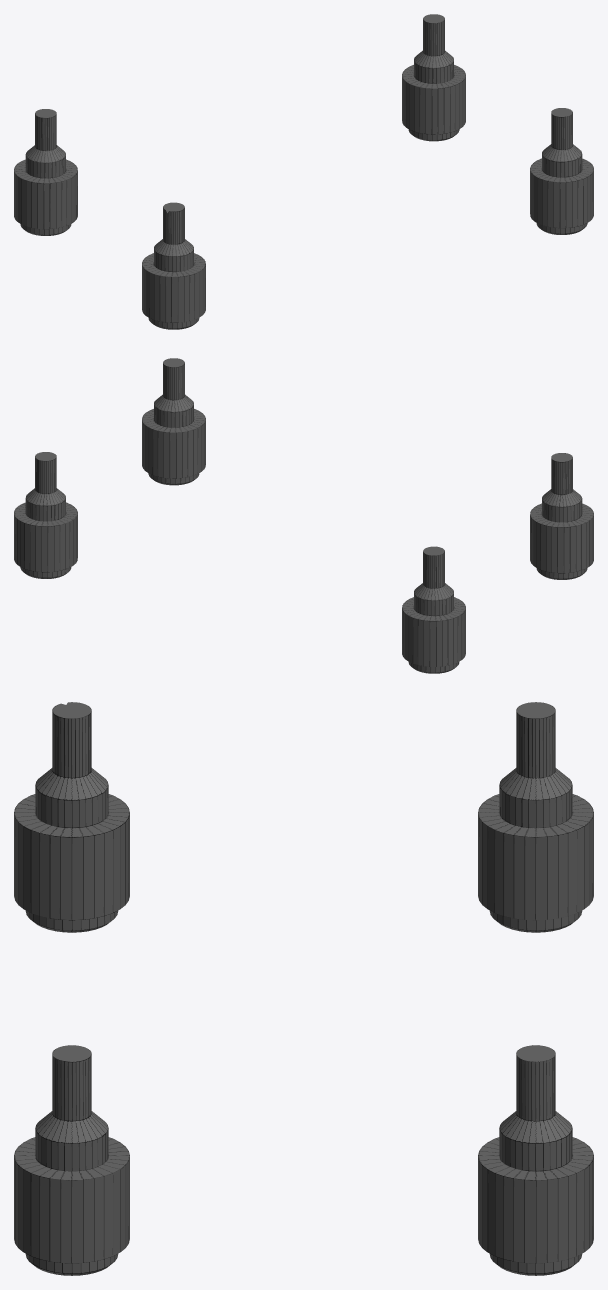
File: drop_ship_engineMK2.obj
3 views of the same model, one above another, from view 1: azimuth 30°, elevation 25°; view 2: azimuth 150°, elevation 25°; view 3: azimuth 270°, elevation 25° (orthographic). The views are drawn at different scales.
Visible parts, largest first — view 1: engine_f_lMK2_Cylinder.002; view 2: engine_f_lMK2_Cylinder.002; view 3: engine_f_lMK2_Cylinder.002.
Part boxes in pixels (<box>): engine_f_lMK2_Cylinder.002: <box>14,14,593,329</box>; engine_f_lMK2_Cylinder.002: <box>14,358,593,673</box>; engine_f_lMK2_Cylinder.002: <box>14,702,593,1275</box>.
Size of the model in its own units: 16 by 3.89 by 10.
Materials: 1 (1 with a texture image).
